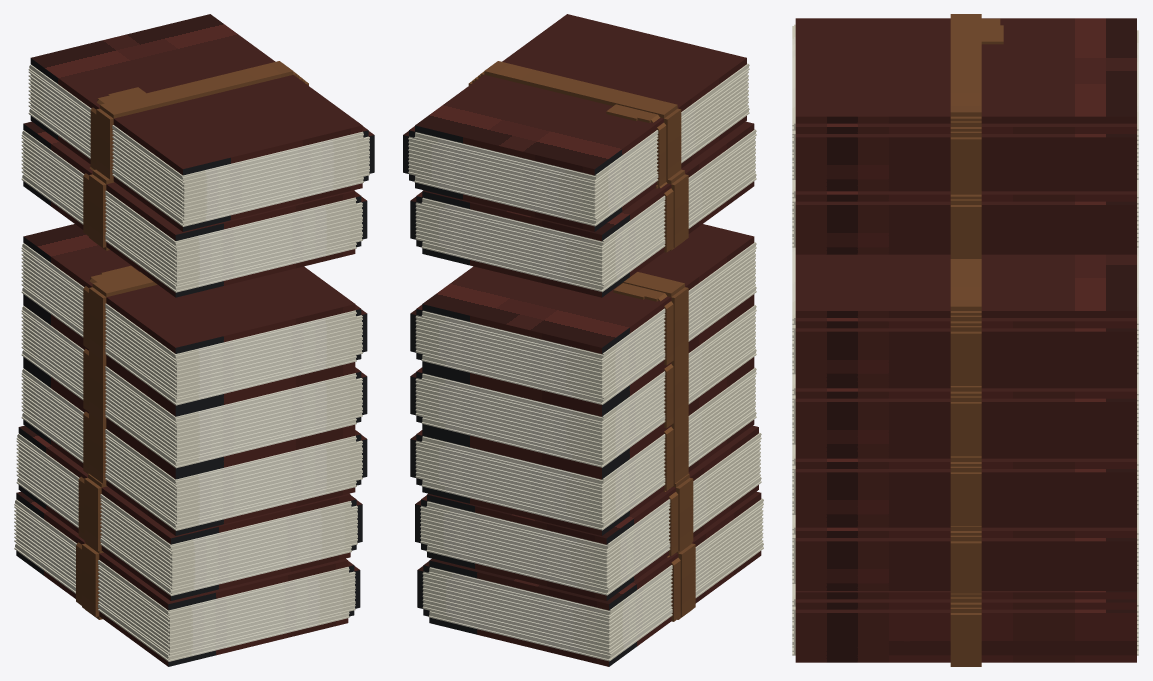
Rendered from stack_of_books_7_6.gltf.
3 renders of one model, left to right at view 1: azimuth 30°, elevation 25°; view 2: azimuth 150°, elevation 25°; view 3: azimuth 270°, elevation 25°, orthographic. The views are drawn at different scales.
Visible parts, largest first — view 1: cube (×163); view 2: cube (×219); view 3: cube (×45).
Part boxes in pixels (bbox=[...]): cube (×163): bbox=[14, 14, 369, 666]; cube (×219): bbox=[408, 14, 763, 666]; cube (×45): bbox=[795, 14, 1136, 662].
Bounding box in the file's own units: 0.5563 × 1.25 × 0.6969.
Materials: 3 (3 with a texture image).
